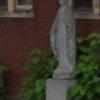Statue: (41, 5, 82, 80)
